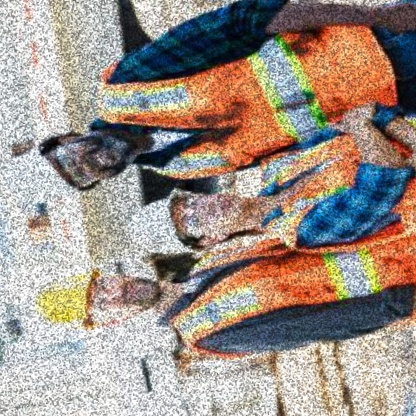vest: (89, 0, 414, 194), (162, 209, 416, 377), (247, 113, 416, 262)
white: (0, 133, 90, 218), (113, 176, 192, 269)
yellow: (23, 261, 110, 350)
